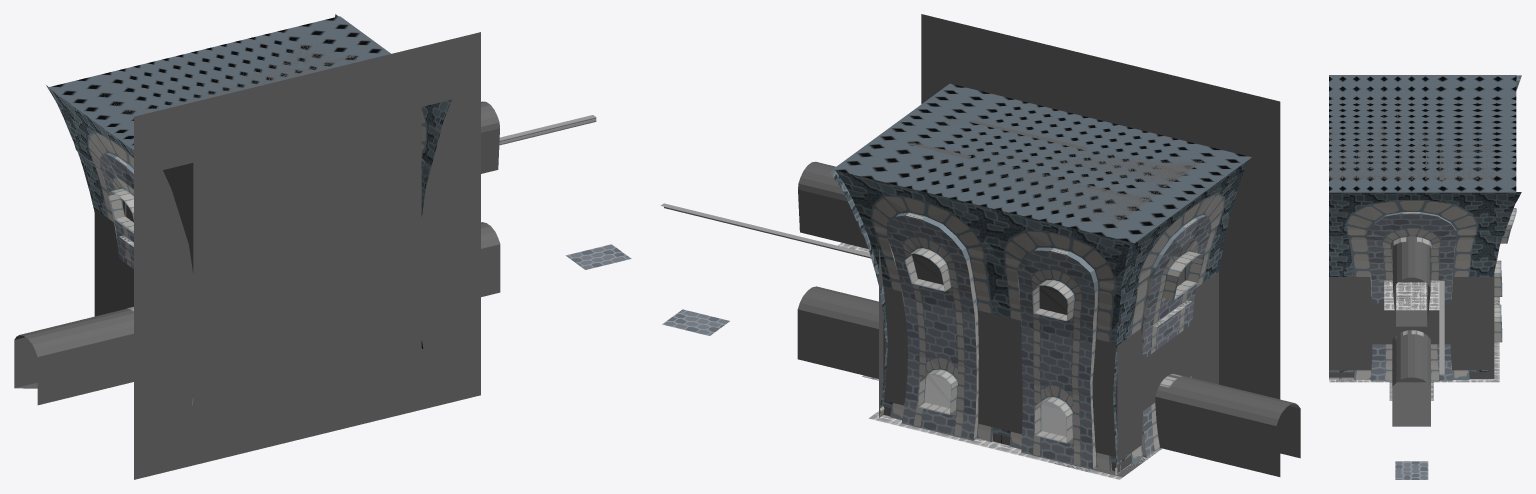
The model's file is gon_00_bake_split.dae.
The picture shows the model from 3 angles, left to right: view 1: azimuth 30°, elevation 25°; view 2: azimuth 150°, elevation 25°; view 3: azimuth 270°, elevation 25°; orthographic projection. The views are drawn at different scales.
Visible parts, largest first — view 1: kuro, a_kabemae, yuka04, polySurface404_q010, a_kabeyoko, polySurface793_q040_part2, polySurface793_q040_part0, a_ten_01, polySurface758_q011, polySurface797_q041_part0, polySurface760_q012, polySurface793_q040_part1 (+2 smaller); view 2: kuro, yuka04, polySurface789_q046_part2, polySurface789_q046_part1, polySurface404_q010, a_kabeoku, a_kabeyoko, polySurface789_q046_part0, a_ten_01, polySurface758_q011, polySurface793_q040_part2, polySurface793_q040_part0 (+8 smaller); view 3: yuka04, a_kabeyoko, polySurface797_q041_part2, polySurface797_q041_part0, polySurface797_q041_part1, a_ten_01, polySurface758_q011, polySurface402_q008, polySurface760_q012, polySurface403_q038, polySurface789_q046_part2, polySurface403_q009 (+3 smaller).
Part boxes in pixels (bbox=[...]): kuro: bbox=[134, 32, 480, 479]; a_kabemae: bbox=[193, 107, 421, 404]; yuka04: bbox=[48, 16, 390, 149]; polySurface404_q010: bbox=[14, 308, 133, 405]; a_kabeyoko: bbox=[94, 163, 193, 404]; polySurface793_q040_part2: bbox=[87, 130, 193, 404]; polySurface793_q040_part0: bbox=[46, 85, 133, 217]; a_ten_01: bbox=[101, 35, 355, 118]; polySurface758_q011: bbox=[481, 222, 500, 296]; polySurface797_q041_part0: bbox=[335, 14, 451, 216]; polySurface760_q012: bbox=[481, 101, 499, 173]; polySurface793_q040_part1: bbox=[100, 154, 133, 310]; kuro: bbox=[921, 14, 1280, 476]; yuka04: bbox=[832, 83, 1251, 243]; polySurface789_q046_part2: bbox=[870, 195, 1121, 473]; polySurface789_q046_part1: bbox=[886, 215, 1094, 469]; polySurface404_q010: bbox=[1155, 373, 1300, 475]; a_kabeoku: bbox=[883, 287, 1117, 471]; a_kabeyoko: bbox=[879, 248, 1218, 473]; polySurface789_q046_part0: bbox=[835, 170, 1134, 462]; a_ten_01: bbox=[910, 95, 1206, 224]; polySurface758_q011: bbox=[797, 286, 878, 378]; polySurface793_q040_part2: bbox=[1115, 192, 1224, 475]; polySurface793_q040_part0: bbox=[1113, 159, 1249, 465]; yuka04: bbox=[1329, 75, 1516, 192]; a_kabeyoko: bbox=[1329, 247, 1494, 378]; polySurface797_q041_part2: bbox=[1329, 200, 1493, 381]; polySurface797_q041_part0: bbox=[1329, 192, 1521, 371]; polySurface797_q041_part1: bbox=[1366, 213, 1456, 381]; a_ten_01: bbox=[1329, 88, 1494, 179]; polySurface758_q011: bbox=[1392, 330, 1430, 386]; polySurface402_q008: bbox=[1392, 382, 1430, 426]; polySurface760_q012: bbox=[1393, 236, 1430, 325]; polySurface403_q038: bbox=[1384, 282, 1439, 310]; polySurface789_q046_part2: bbox=[1487, 158, 1516, 379]; polySurface403_q009: bbox=[1396, 282, 1427, 326].
Bounding box in the file's own units: 103 × 60 × 35.
